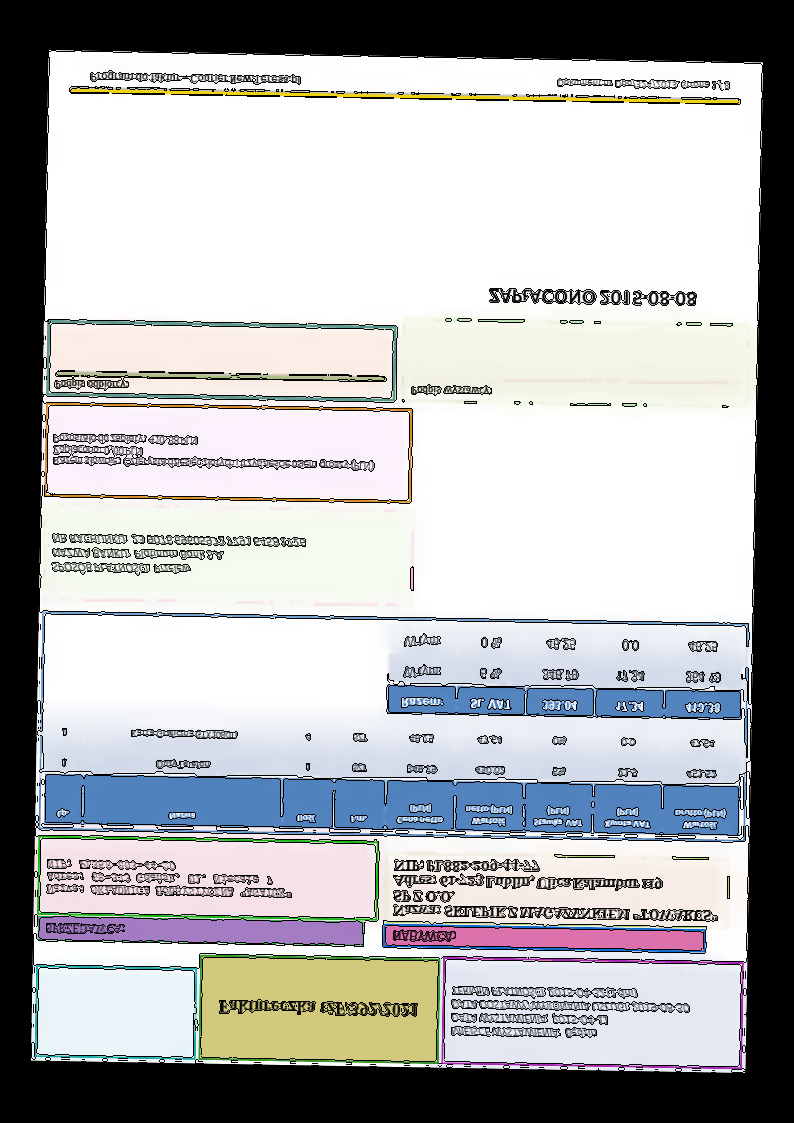Table: (43, 711, 742, 838), (386, 622, 743, 721)
TextBox: (391, 857, 720, 923), (449, 983, 691, 1041), (52, 432, 376, 473), (49, 532, 307, 579), (45, 857, 293, 901), (217, 998, 419, 1020), (488, 287, 697, 308), (88, 69, 302, 88), (556, 75, 731, 93), (43, 920, 128, 937), (409, 382, 493, 399), (53, 377, 130, 393), (391, 928, 457, 945)
